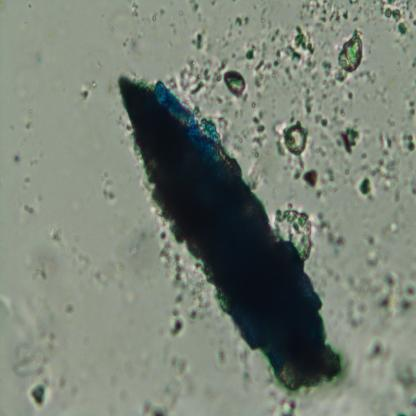Background material: (154, 229, 212, 322), (50, 220, 113, 289), (245, 27, 319, 84), (139, 354, 194, 414), (344, 268, 399, 321), (13, 343, 56, 410), (174, 51, 230, 99), (5, 296, 62, 340), (104, 6, 150, 58), (273, 204, 312, 258), (273, 119, 308, 178), (370, 128, 400, 191), (379, 0, 416, 40), (298, 0, 349, 29), (16, 169, 45, 218), (336, 30, 366, 77), (315, 209, 347, 253), (302, 86, 333, 130), (361, 70, 395, 108), (148, 5, 179, 44), (5, 66, 35, 105), (396, 356, 416, 414), (223, 70, 250, 102), (361, 232, 385, 266), (249, 108, 268, 150), (268, 391, 301, 415), (332, 79, 355, 113), (337, 123, 360, 156), (366, 337, 394, 363), (54, 371, 78, 401), (168, 305, 186, 339), (303, 166, 321, 200), (400, 280, 416, 317), (356, 172, 376, 200), (100, 171, 116, 204), (105, 378, 126, 402), (33, 260, 56, 281), (78, 77, 98, 98), (400, 132, 416, 155), (216, 344, 230, 369), (62, 296, 79, 315), (18, 109, 32, 130), (233, 12, 251, 28), (126, 2, 141, 20), (406, 98, 416, 121), (192, 34, 204, 53), (386, 220, 397, 239), (321, 59, 332, 77), (189, 0, 201, 12), (12, 151, 22, 164)
Fragment: (118, 74, 341, 388)
